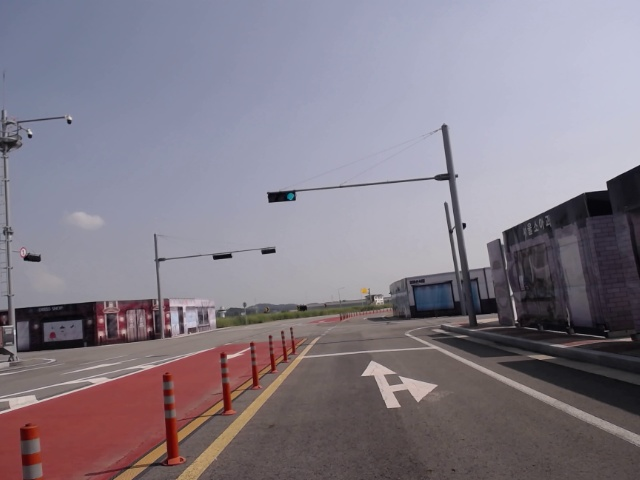green_3: (267, 190, 296, 203)
